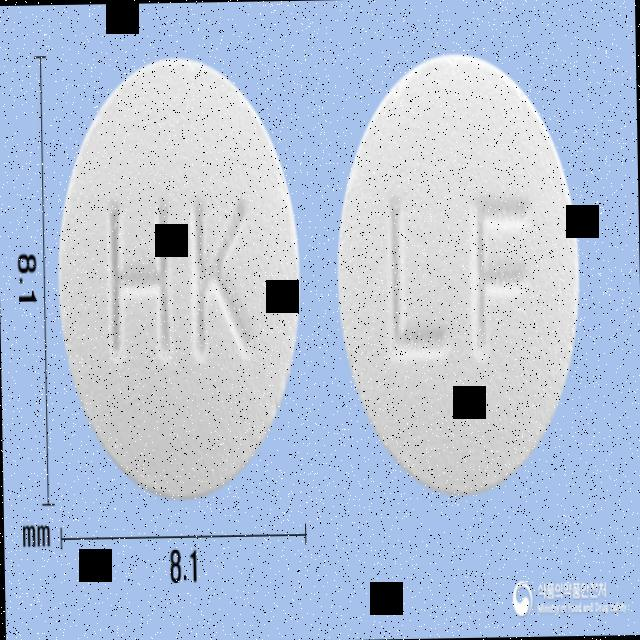Levotacin: (54, 51, 305, 498), (334, 46, 583, 494)
